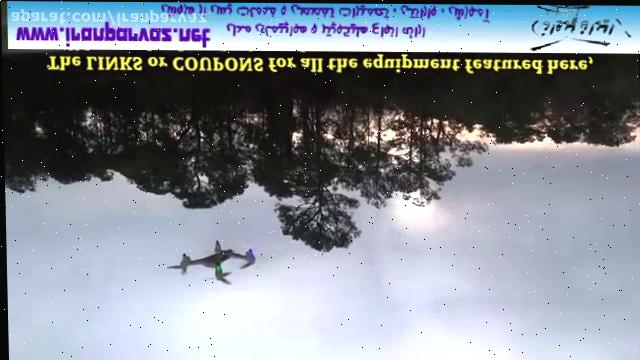drone: (160, 235, 255, 287)
